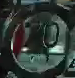Speed limit: (5, 3, 72, 71)
